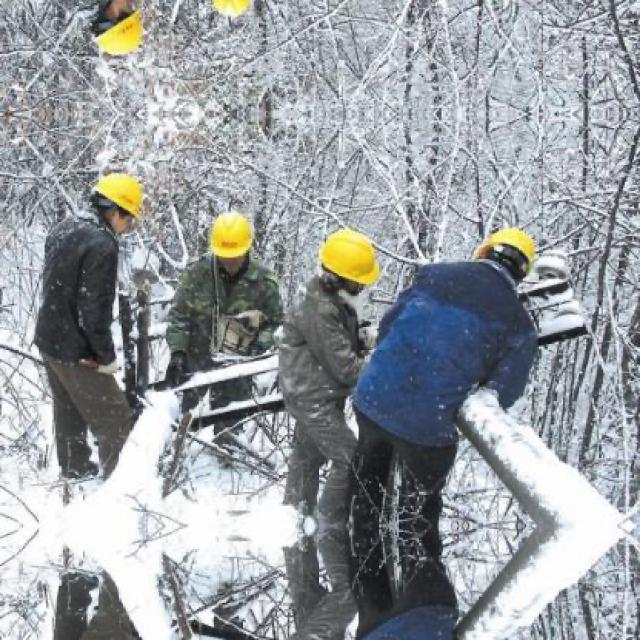con casco: (428, 203, 563, 317), (152, 188, 266, 300), (298, 211, 412, 301), (78, 160, 159, 254)
